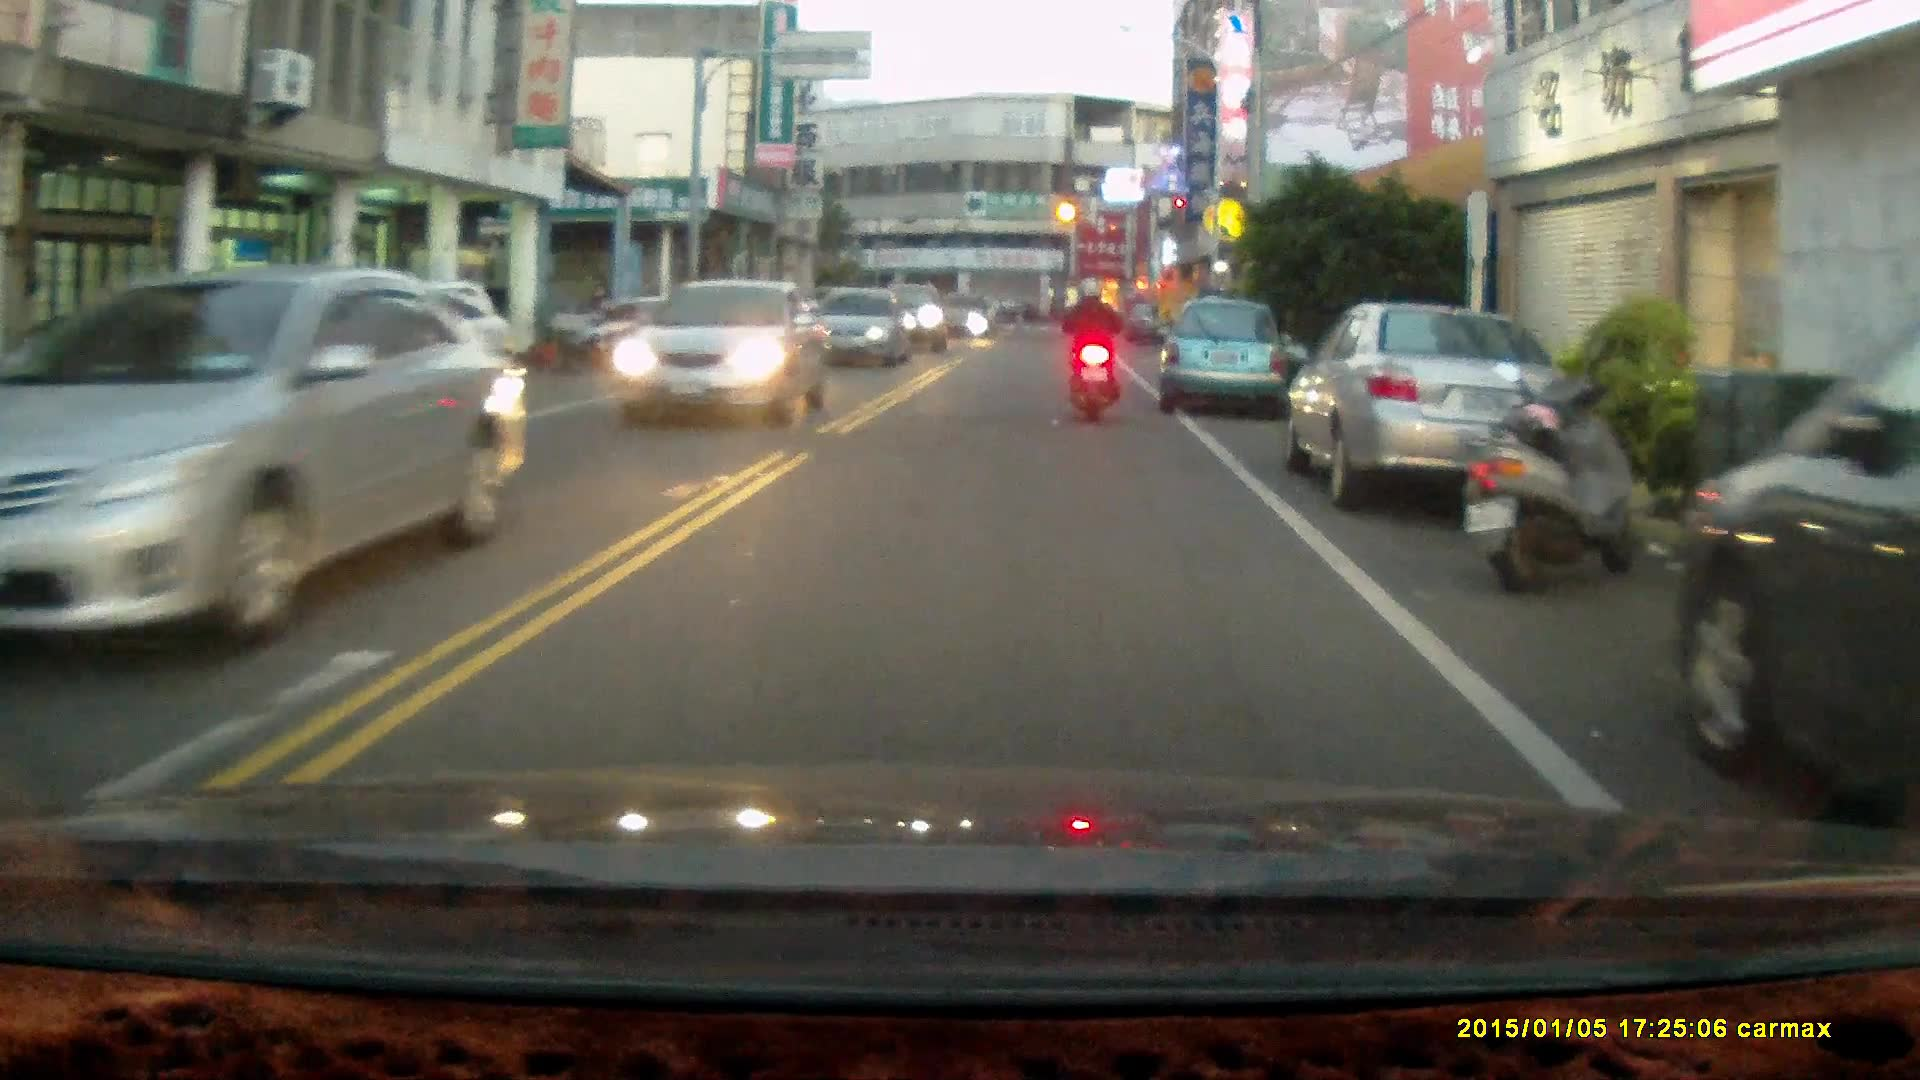rider: (1060, 272, 1121, 421)
vehicle: (1, 262, 534, 659), (1669, 335, 1920, 810), (1282, 297, 1573, 508), (613, 275, 831, 422), (1153, 296, 1291, 420), (805, 282, 917, 369)
